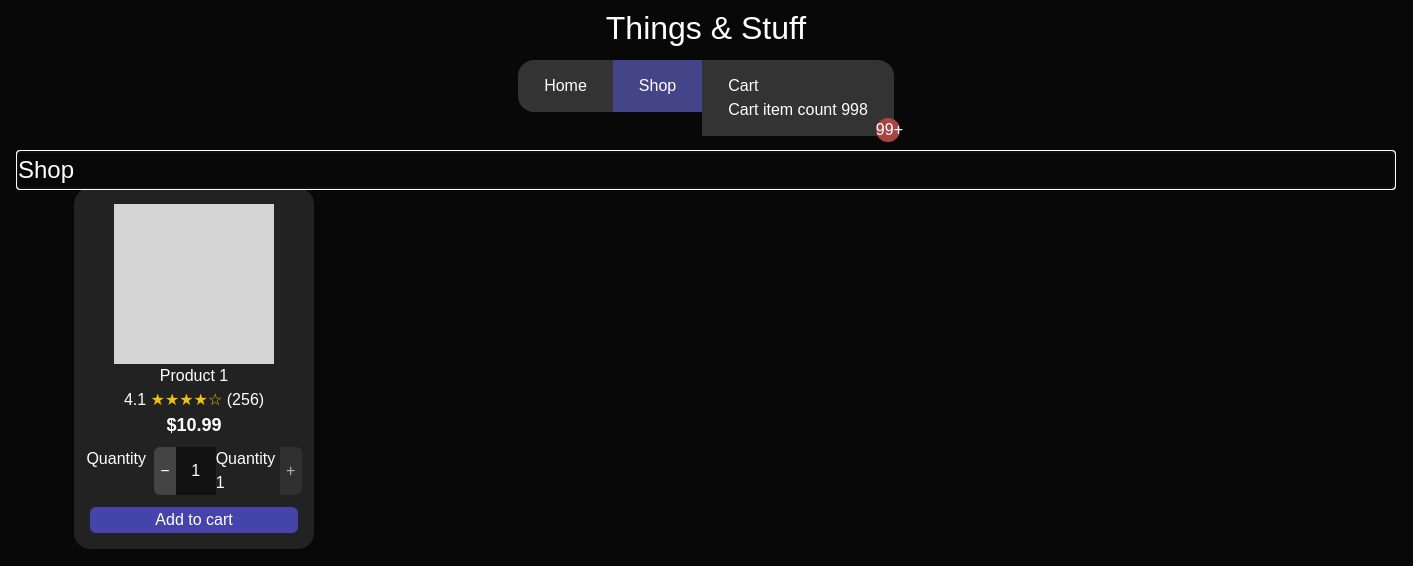
Test: Quantity input › has a value of 0 after adding to cart if maximum reached
What coordinates should you click on to do the following:
click the button "Add to cart"
I would click on:
 (194, 520)
Its box is [90, 507, 298, 533].
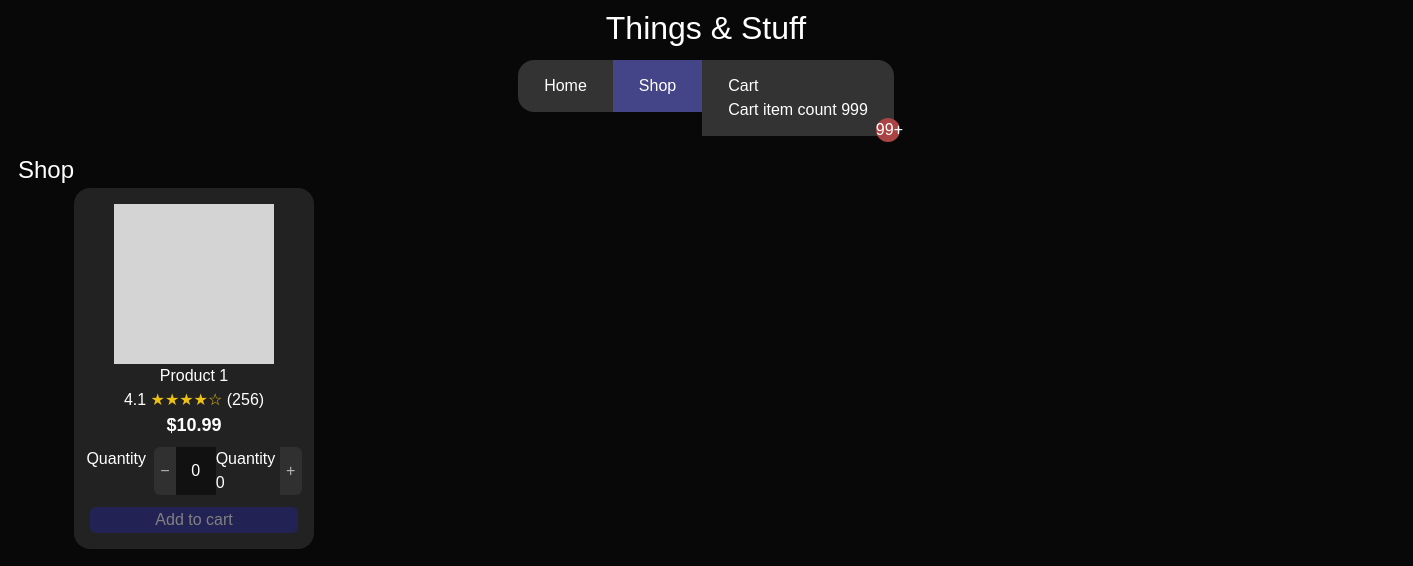
Expected: the number field labelled "Quantity" holds "0", [176, 447, 216, 495]
